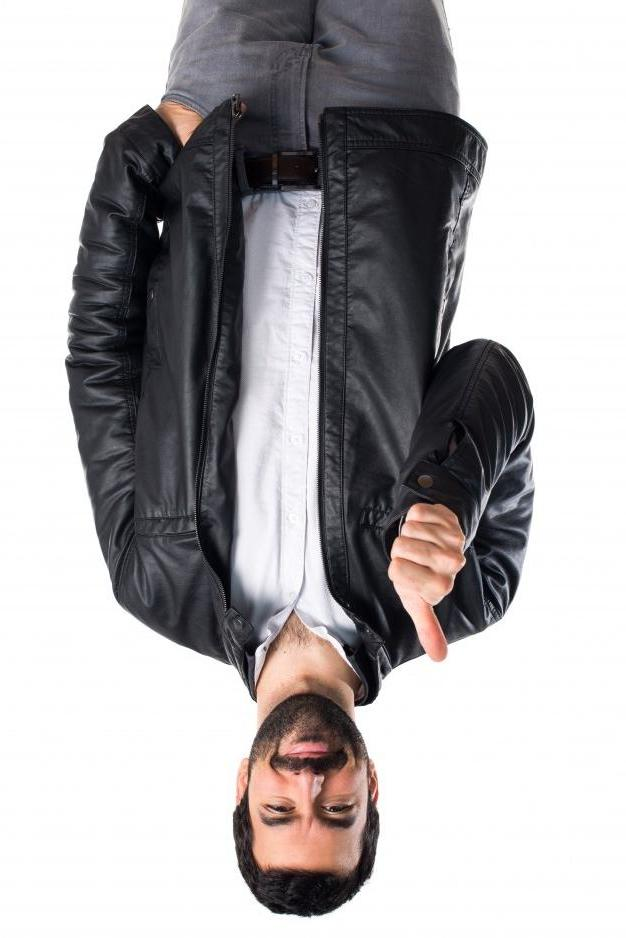thumbsdown: (388, 504, 467, 663)
